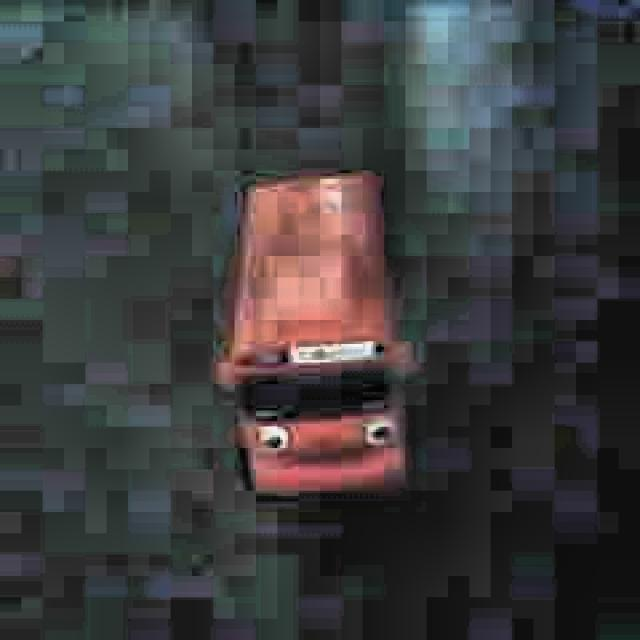bus: (212, 161, 419, 513)
